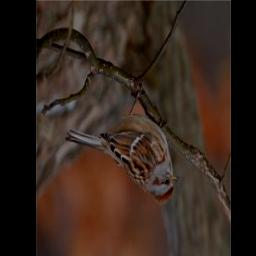Sparrow: (65, 83, 181, 204)
